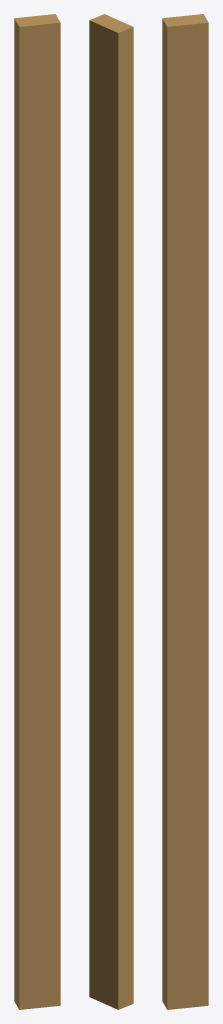
The picture shows the model from 3 angles, left to right: view 1: azimuth 90°, elevation 25°; view 2: azimuth 210°, elevation 25°; view 3: azimuth 270°, elevation 25°; orthographic projection.
Visible parts, largest first — view 1: RUN-018-S00-STUD-01; view 2: RUN-018-S00-STUD-01; view 3: RUN-018-S00-STUD-01.
Boxes of the visible parts, <box> form: RUN-018-S00-STUD-01: <box>14,14,60,1009</box>; RUN-018-S00-STUD-01: <box>89,14,133,1009</box>; RUN-018-S00-STUD-01: <box>162,14,208,1009</box>.
Size of the model in its own units: 0.0649 by 2.29 by 0.0981.
